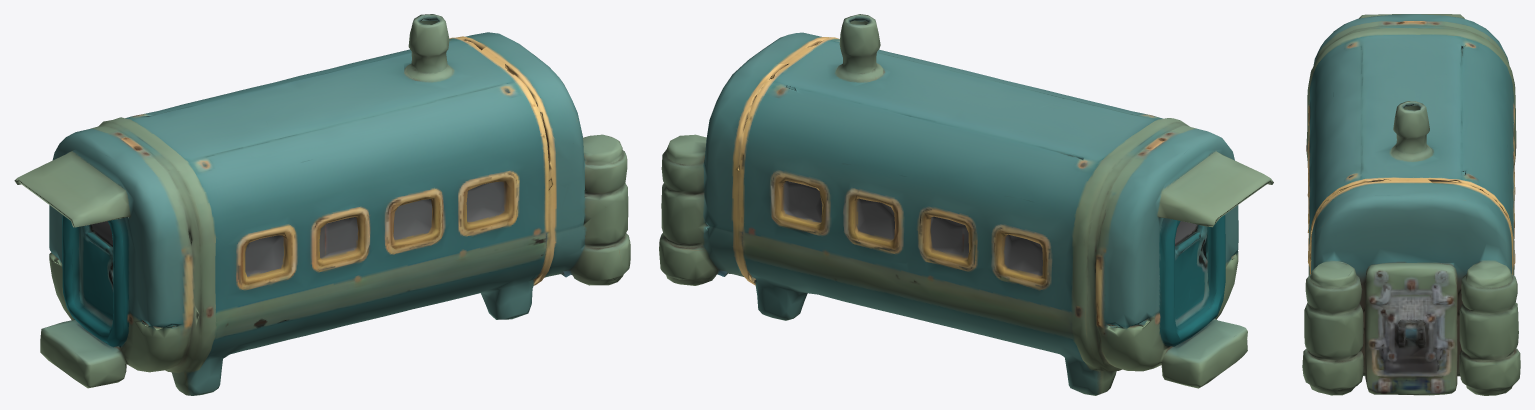
File: modul-tonnelnyy.glb
3 renders of one model, left to right at view 1: azimuth 30°, elevation 25°; view 2: azimuth 150°, elevation 25°; view 3: azimuth 270°, elevation 25°, orthographic. The views are drawn at different scales.
Parts seen in each view (by area): view 1: geometry_0; view 2: geometry_0; view 3: geometry_0.
Part boxes in pixels (x1=…): geometry_0: x1=14, y1=14, x2=630, y2=395; geometry_0: x1=659, y1=14, x2=1273, y2=395; geometry_0: x1=1302, y1=14, x2=1520, y2=395.
Size of the model in its own units: 1 by 0.4989 by 0.3954.
1 material, 1 textured.
